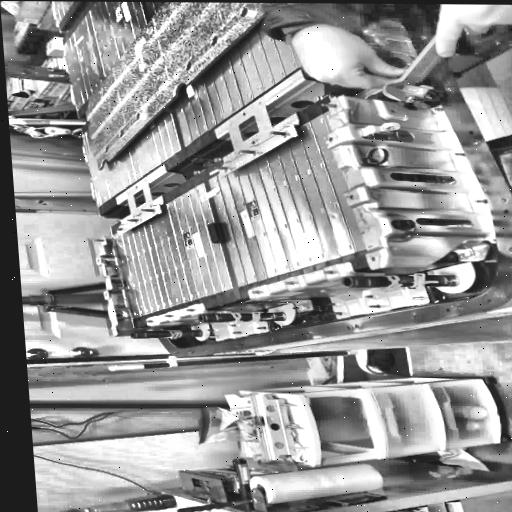battery_module: (209, 107, 372, 286), (111, 181, 232, 318)
nut: (317, 101, 338, 108), (237, 148, 261, 154), (471, 198, 492, 204), (268, 130, 289, 136), (453, 150, 469, 156), (329, 310, 343, 316), (412, 295, 428, 300), (364, 294, 380, 299), (290, 305, 305, 310), (212, 165, 230, 169), (367, 303, 381, 308), (230, 330, 247, 334), (207, 334, 223, 338), (253, 325, 268, 329), (205, 327, 217, 332), (328, 301, 342, 305), (228, 323, 241, 327)
